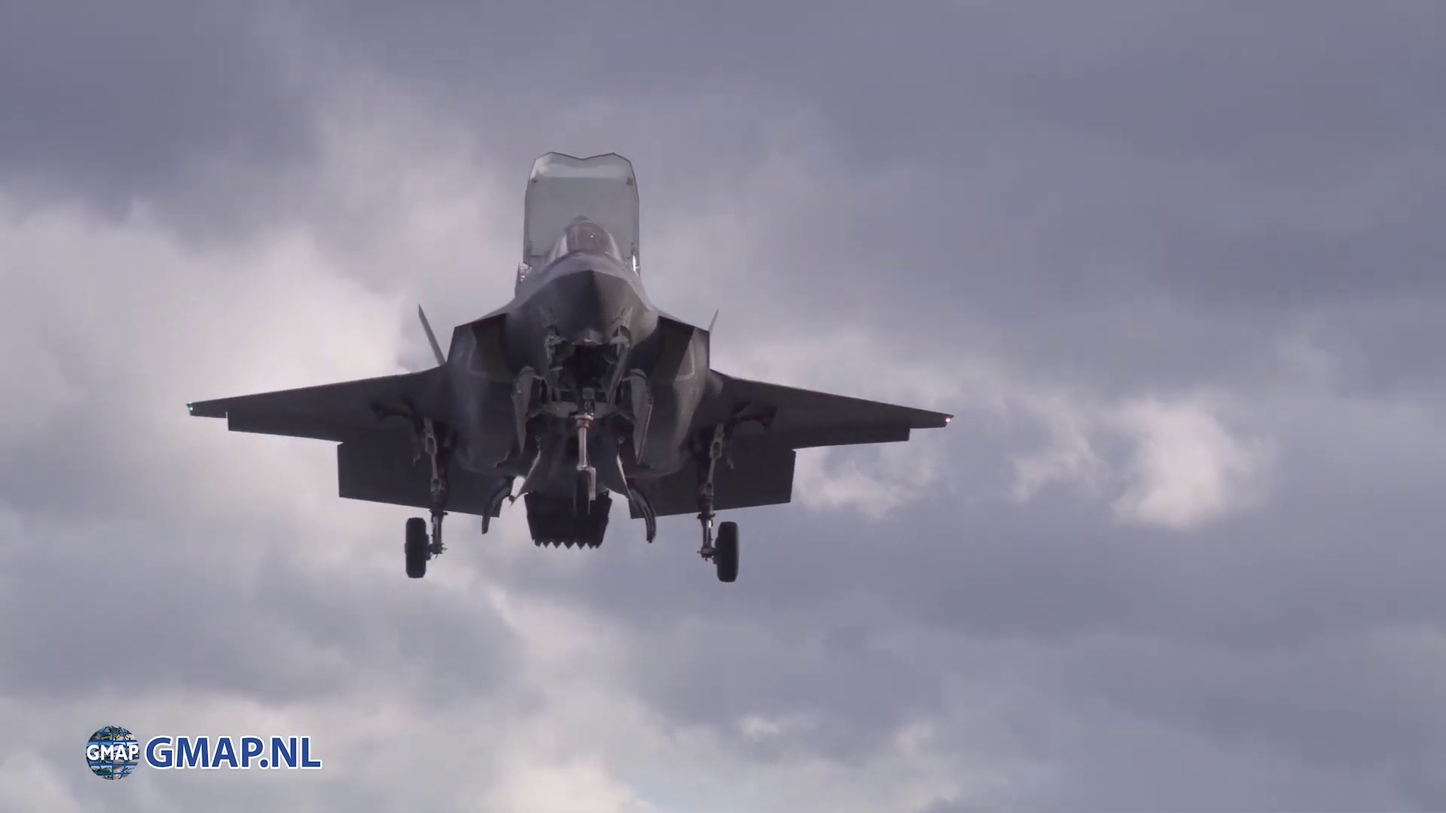F35: (186, 151, 958, 584)
